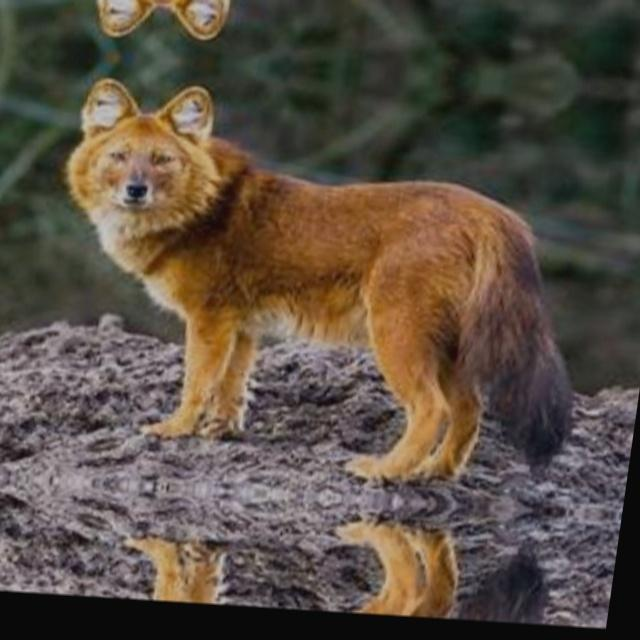dog: (20, 88, 558, 340), (61, 0, 578, 50)
